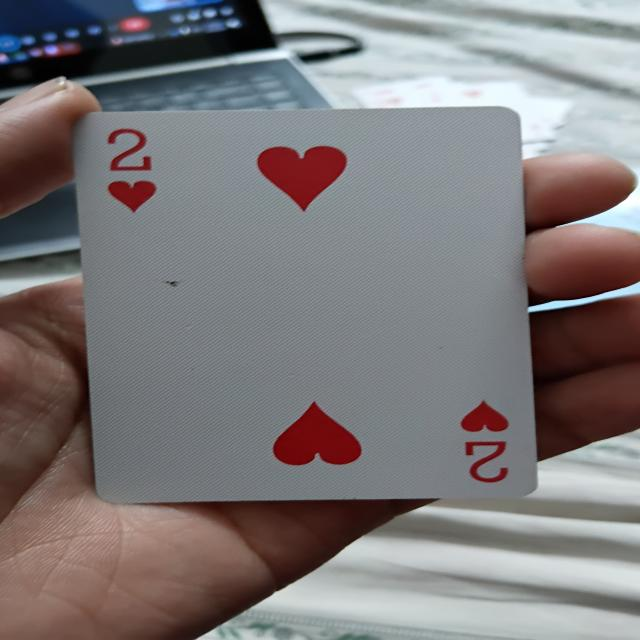2H: (72, 111, 544, 504)
